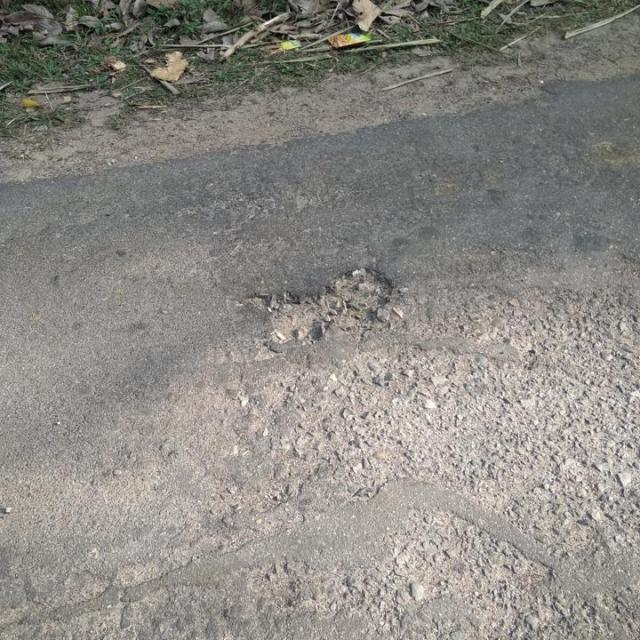pothole: (252, 262, 398, 347)
